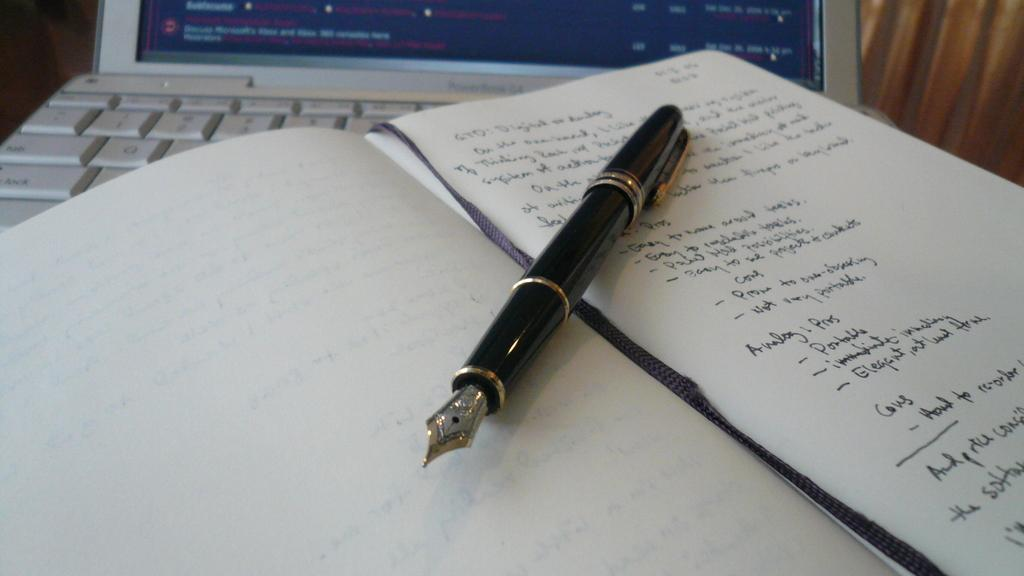pen: (420, 101, 691, 465)
